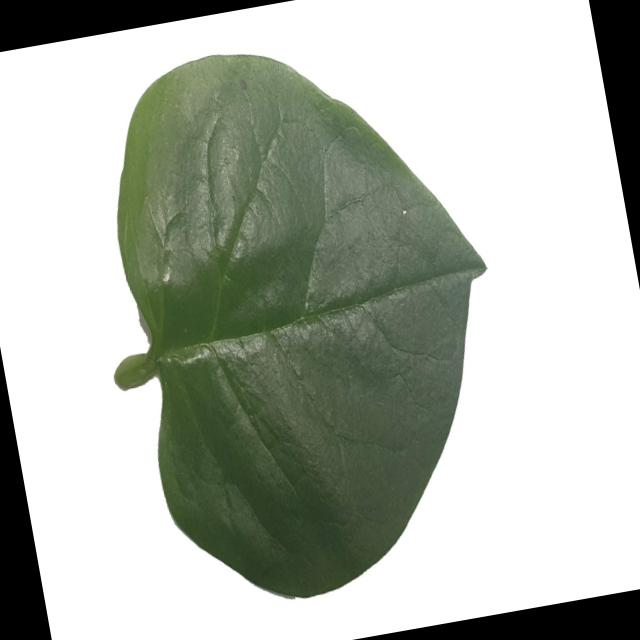Medicinal-Basale: (61, 10, 539, 625)
